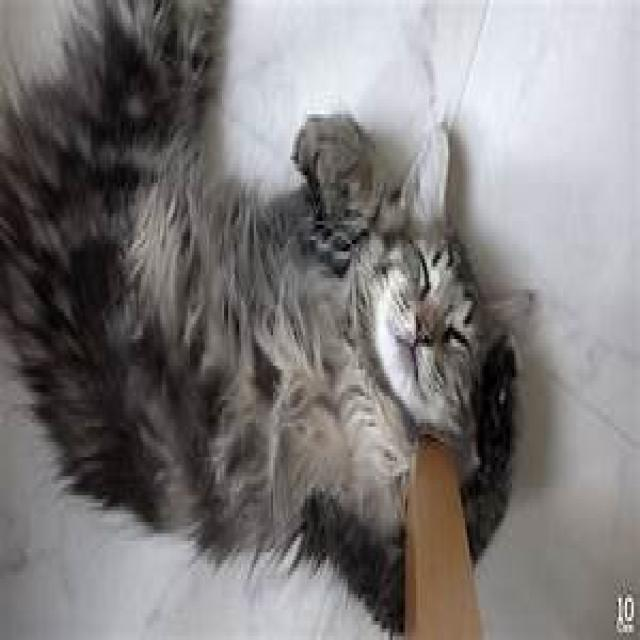animal: (0, 0, 529, 632)
